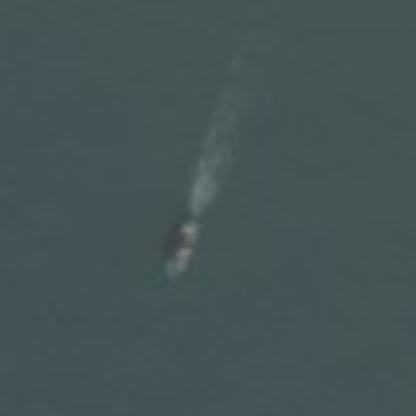ship: (159, 215, 209, 281)
